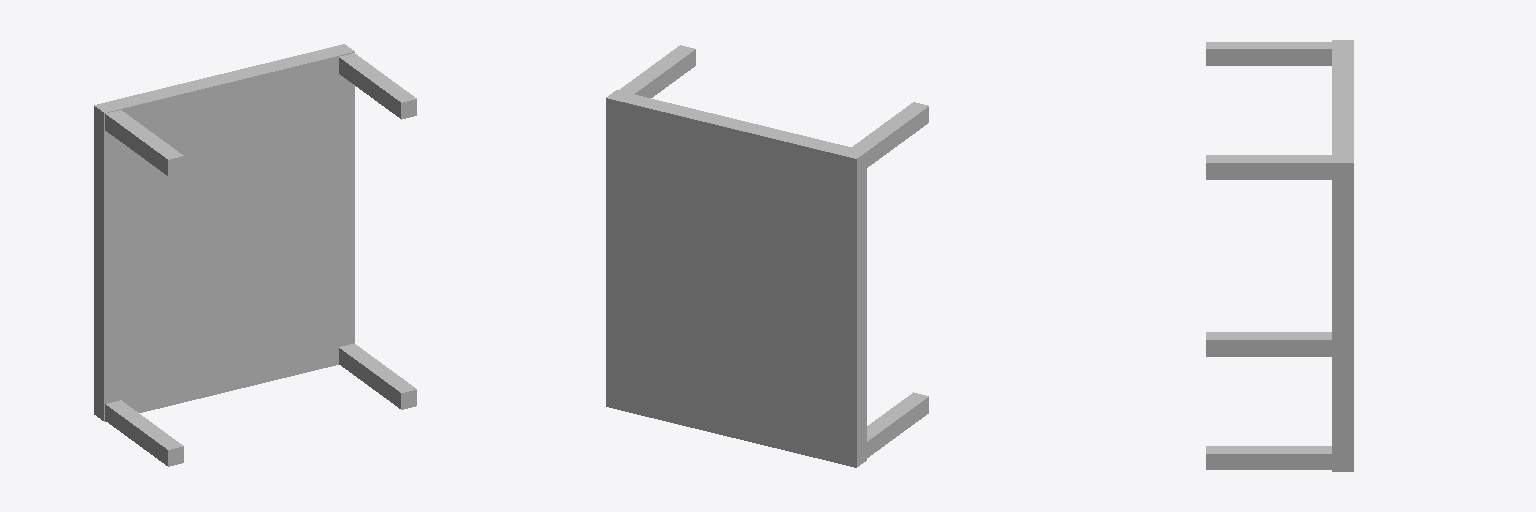
Rendered from random_table58.obj.
The picture shows the model from 3 angles: view 1: azimuth 30°, elevation 25°; view 2: azimuth 150°, elevation 25°; view 3: azimuth 270°, elevation 25°; orthographic projection.
Visible parts, largest first — view 1: Table_Cube.1355, TableLeg1_Cube.1357, TableLeg3_Cube.1359, TableLeg2_Cube.1358, TableLeg0_Cube.1356; view 2: Table_Cube.1355, TableLeg1_Cube.1357, TableLeg3_Cube.1359, TableLeg0_Cube.1356; view 3: Table_Cube.1355, TableLeg0_Cube.1356, TableLeg3_Cube.1359, TableLeg1_Cube.1357, TableLeg2_Cube.1358.
Boxes of the visible parts, x1,y1,x2,y2 form: Table_Cube.1355: [94, 44, 354, 421]; TableLeg1_Cube.1357: [105, 110, 183, 175]; TableLeg3_Cube.1359: [105, 400, 183, 466]; TableLeg2_Cube.1358: [339, 343, 416, 409]; TableLeg0_Cube.1356: [339, 53, 416, 119]; Table_Cube.1355: [606, 90, 866, 467]; TableLeg1_Cube.1357: [852, 102, 928, 167]; TableLeg3_Cube.1359: [867, 392, 928, 457]; TableLeg0_Cube.1356: [618, 45, 695, 97]; Table_Cube.1355: [1332, 40, 1353, 471]; TableLeg0_Cube.1356: [1206, 155, 1331, 179]; TableLeg3_Cube.1359: [1206, 332, 1331, 356]; TableLeg1_Cube.1357: [1206, 42, 1331, 65]; TableLeg2_Cube.1358: [1206, 446, 1331, 469].
Size of the model in its own units: 6.74 by 7.93 by 3.43.